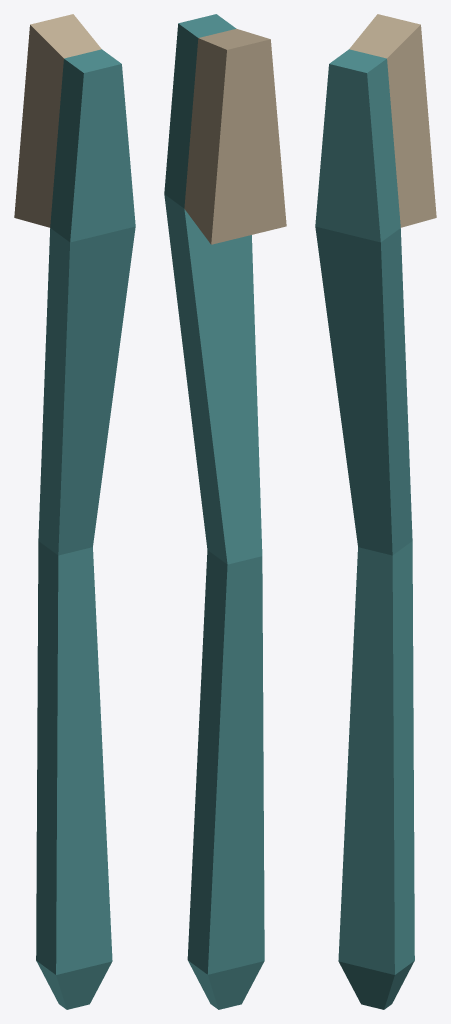
The model's file is SM_Item_Toothbrush_01.fbx.
The picture shows the model from 3 angles, left to right: view 1: azimuth 30°, elevation 25°; view 2: azimuth 210°, elevation 25°; view 3: azimuth 330°, elevation 25°; orthographic projection.
Visible parts, largest first — view 1: SM_Item_Toothbrush_01; view 2: SM_Item_Toothbrush_01; view 3: SM_Item_Toothbrush_01.
Boxes of the visible parts, left/top/right/bottom form: SM_Item_Toothbrush_01: left=14, top=14, right=135, bottom=1009; SM_Item_Toothbrush_01: left=164, top=14, right=286, bottom=1009; SM_Item_Toothbrush_01: left=315, top=14, right=436, bottom=1009.
Size of the model in its own units: 2.54 by 31.35 by 3.01.
